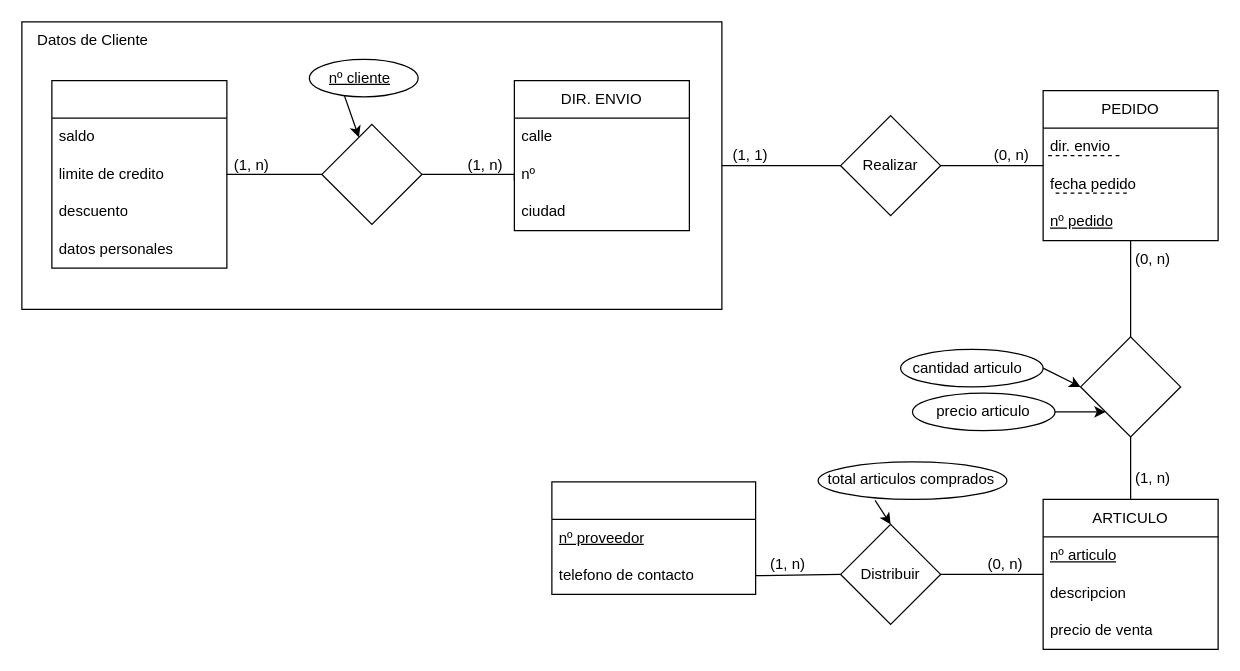
The diagram is 1240 pixels wide and 671 high, and some of its shapes have lost their labels. Here are the shapes that lost their labels. From the top down, the box of each, then its label:
(51, 79, 227, 268): CLIENTE
(321, 123, 422, 224): Tener
(1079, 336, 1181, 437): Contener
(551, 481, 756, 594): PROVEEDORES
